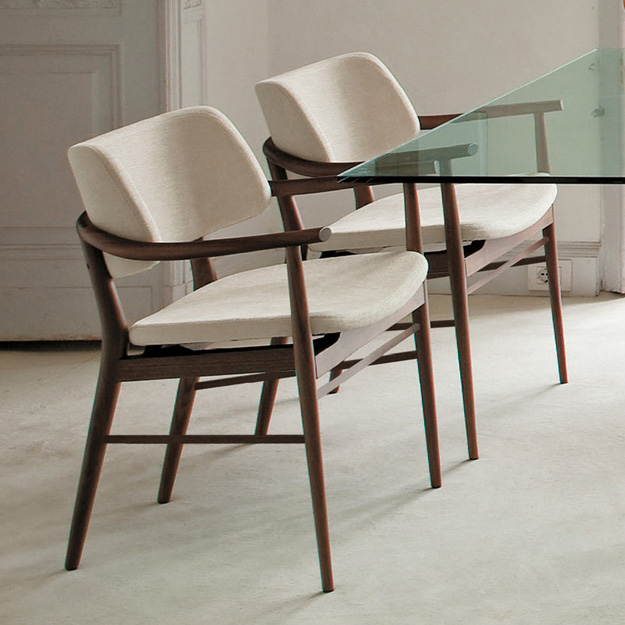chair: (48, 97, 461, 601), (250, 49, 586, 471)
